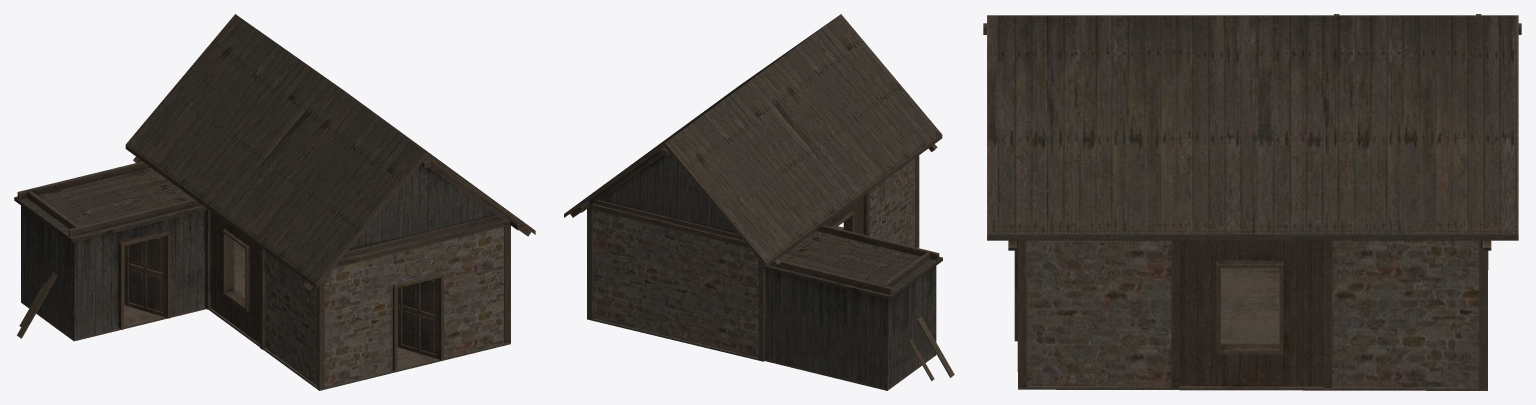
The model's file is house_stone.glb.
The picture shows the model from 3 angles, left to right: view 1: azimuth 30°, elevation 25°; view 2: azimuth 150°, elevation 25°; view 3: azimuth 270°, elevation 25°; orthographic projection. The views are drawn at different scales.
Visible parts, largest first — view 1: Wood, House; view 2: Wood, House; view 3: Wood, House.
Boxes of the visible parts, box(x1,y1,x2,y2) form: Wood: box(17, 14, 535, 388); House: box(14, 168, 510, 390); Wood: box(564, 14, 954, 381); House: box(587, 158, 942, 390); Wood: box(983, 14, 1521, 388); House: box(1017, 240, 1488, 390).
Bounding box in the file's own units: 16373 × 9289 × 14520.
2 materials, 2 textured.
